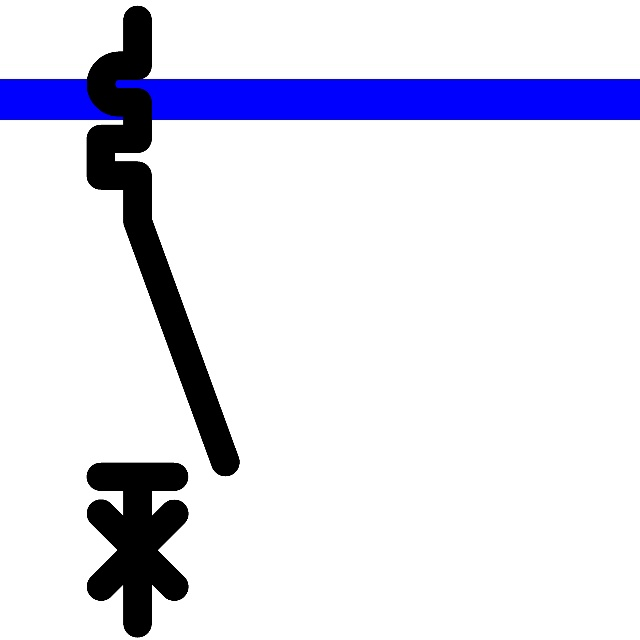interruptor_termomagnetico: (85, 4, 240, 639)
